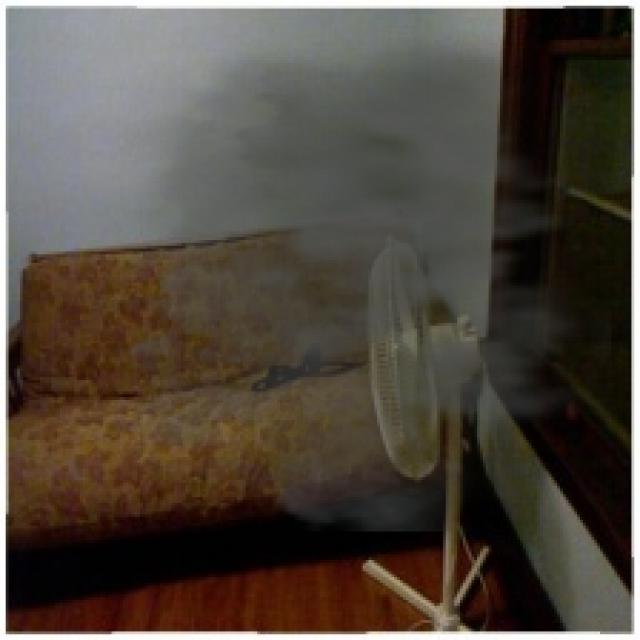smoke: (60, 17, 611, 532)
